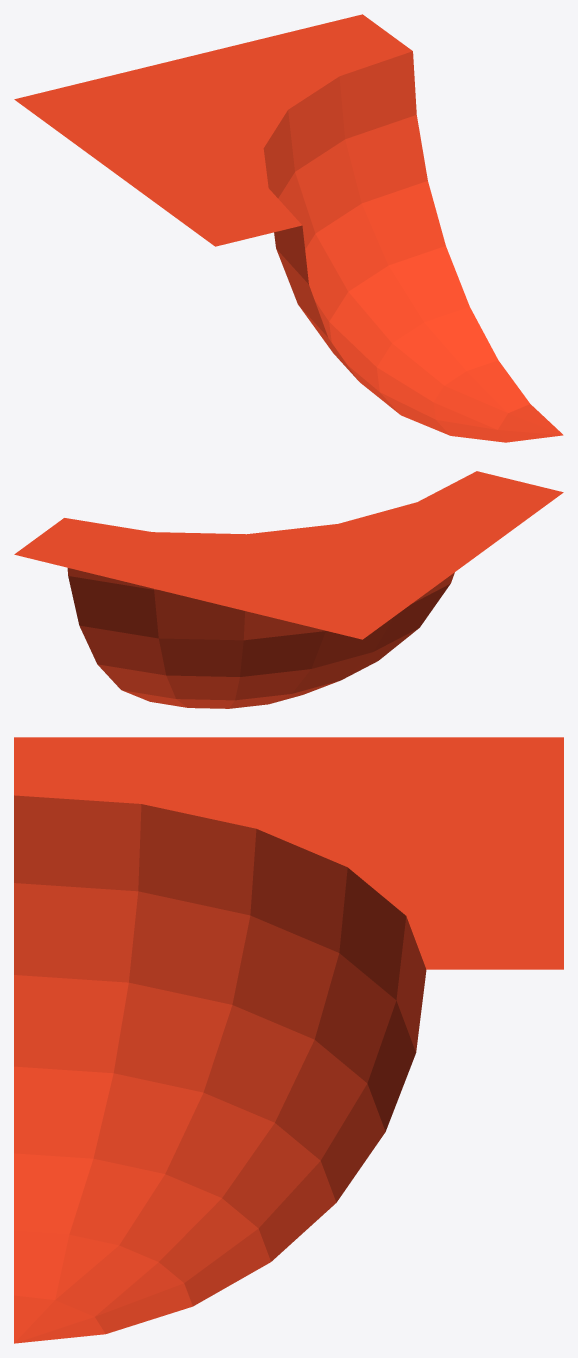
The model's file is SM_Skate_Bowl_Turn_City.fbx.
3 renders of one model, top to bottom at view 1: azimuth 30°, elevation 25°; view 2: azimuth 150°, elevation 25°; view 3: azimuth 270°, elevation 25°, orthographic. The views are drawn at different scales.
Visible parts, largest first — view 1: SM_Skate_Bowl_Turn_City; view 2: SM_Skate_Bowl_Turn_City; view 3: SM_Skate_Bowl_Turn_City.
Part boxes in pixels (x1=…): SM_Skate_Bowl_Turn_City: x1=14, y1=14, x2=563, y2=442; SM_Skate_Bowl_Turn_City: x1=14, y1=471, x2=563, y2=708; SM_Skate_Bowl_Turn_City: x1=14, y1=737, x2=563, y2=1343.
Bounding box in the file's own units: 2 × 1.5 × 2.
